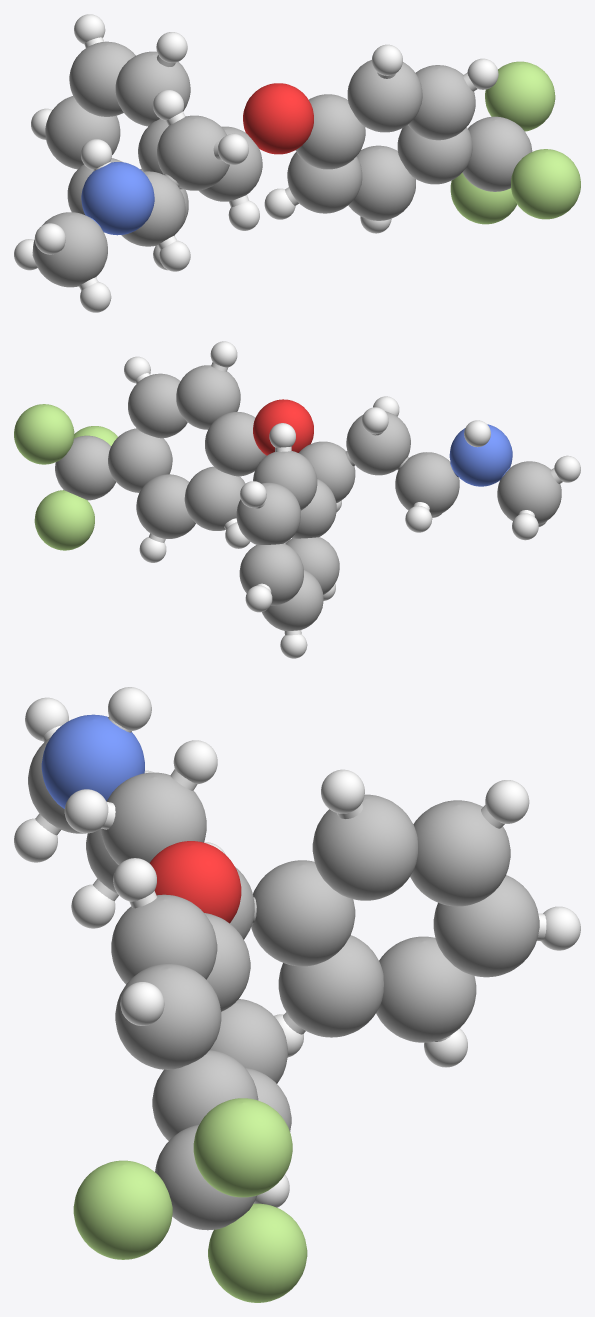
File: fluoxetina.glb
The picture shows the model from 3 angles, top to bottom: view 1: azimuth 30°, elevation 25°; view 2: azimuth 150°, elevation 25°; view 3: azimuth 270°, elevation 25°; orthographic projection. The views are drawn at different scales.
Visible parts, largest first — view 1: Nitrogen_ball, Carbon_ball_14, Oxygen_ball, Carbon_ball, Fluorine_ball_4, Carbon_ball_18, Carbon_ball_6, Carbon_ball_32, Carbon_ball_2, Carbon_ball_4, Fluorine_ball, Carbon_ball_26 (+23 smaller); view 2: Carbon_ball, Carbon_ball_16, Carbon_ball_18, Carbon_ball_8, Fluorine_ball, Carbon_ball_2, Carbon_ball_22, Carbon_ball_4, Carbon_ball_6, Fluorine_ball_2, Carbon_ball_32, Carbon_ball_28 (+23 smaller); view 3: Carbon_ball_26, Carbon_ball_28, Carbon_ball_20, Carbon_ball_30, Fluorine_ball, Fluorine_ball_4, Fluorine_ball_2, Carbon_ball_24, Carbon_ball_22, Carbon_ball_6, Carbon_ball_14, Carbon_ball (+22 smaller).
Part boxes in pixels (x1,y1,x2,y2): Nitrogen_ball: (81, 162, 154, 235); Carbon_ball_14: (157, 115, 229, 190); Oxygen_ball: (243, 83, 313, 154); Carbon_ball: (347, 60, 422, 132); Fluorine_ball_4: (511, 149, 580, 219); Carbon_ball_18: (33, 212, 107, 287); Carbon_ball_6: (408, 65, 475, 140); Carbon_ball_32: (462, 116, 532, 191); Carbon_ball_2: (348, 145, 415, 220); Carbon_ball_4: (295, 94, 365, 169); Fluorine_ball: (485, 61, 555, 131); Carbon_ball_26: (115, 51, 190, 126); Carbon_ball: (176, 365, 240, 429); Carbon_ball_16: (395, 452, 459, 516); Carbon_ball_18: (497, 461, 561, 524); Carbon_ball_8: (108, 428, 172, 492); Fluorine_ball: (14, 404, 74, 464); Carbon_ball_2: (136, 474, 195, 538); Carbon_ball_22: (239, 543, 303, 605); Carbon_ball_4: (205, 412, 266, 476); Carbon_ball_6: (128, 373, 187, 438); Fluorine_ball_2: (34, 490, 94, 550); Carbon_ball_32: (55, 435, 115, 500); Carbon_ball_28: (236, 482, 300, 545); Carbon_ball_26: (312, 794, 417, 900); Carbon_ball_28: (410, 800, 510, 906); Carbon_ball_20: (251, 860, 355, 966); Carbon_ball_30: (376, 936, 476, 1042); Fluorine_ball: (193, 1098, 292, 1197); Fluorine_ball_4: (73, 1160, 172, 1259); Fluorine_ball_2: (208, 1203, 307, 1302); Carbon_ball_24: (278, 935, 383, 1037); Carbon_ball_22: (433, 875, 539, 977); Carbon_ball_6: (115, 963, 221, 1069); Carbon_ball_14: (101, 772, 206, 864); Carbon_ball: (111, 894, 217, 984).
Size of the model in its own units: 13.77 by 5.45 by 8.22.
